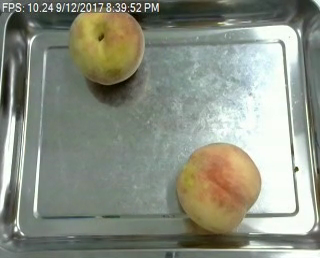Peach: (176, 142, 262, 233), (68, 4, 145, 86)
